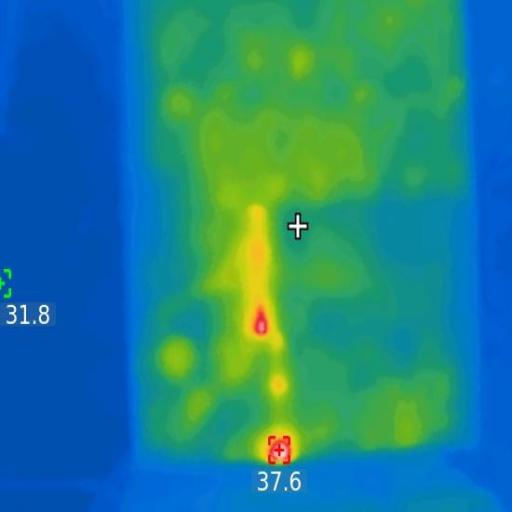hotspot: (266, 434, 292, 466), (251, 308, 273, 340)
